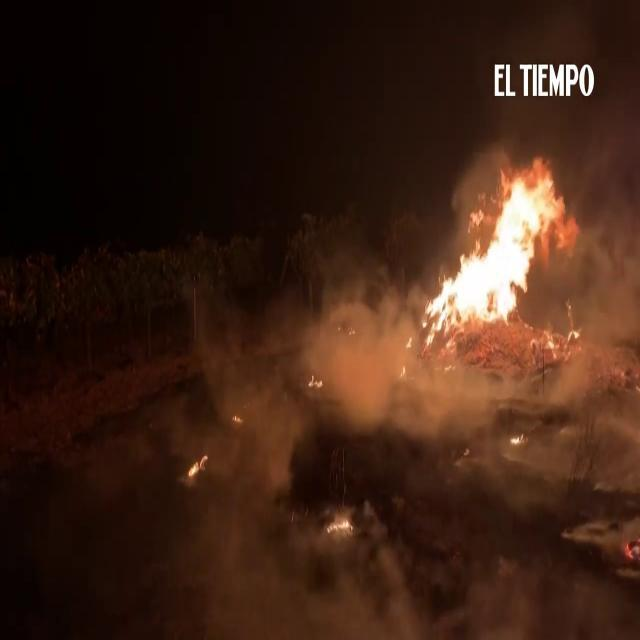Fire: (430, 170, 568, 338)
Smoke: (170, 540, 395, 634), (325, 322, 431, 420)
